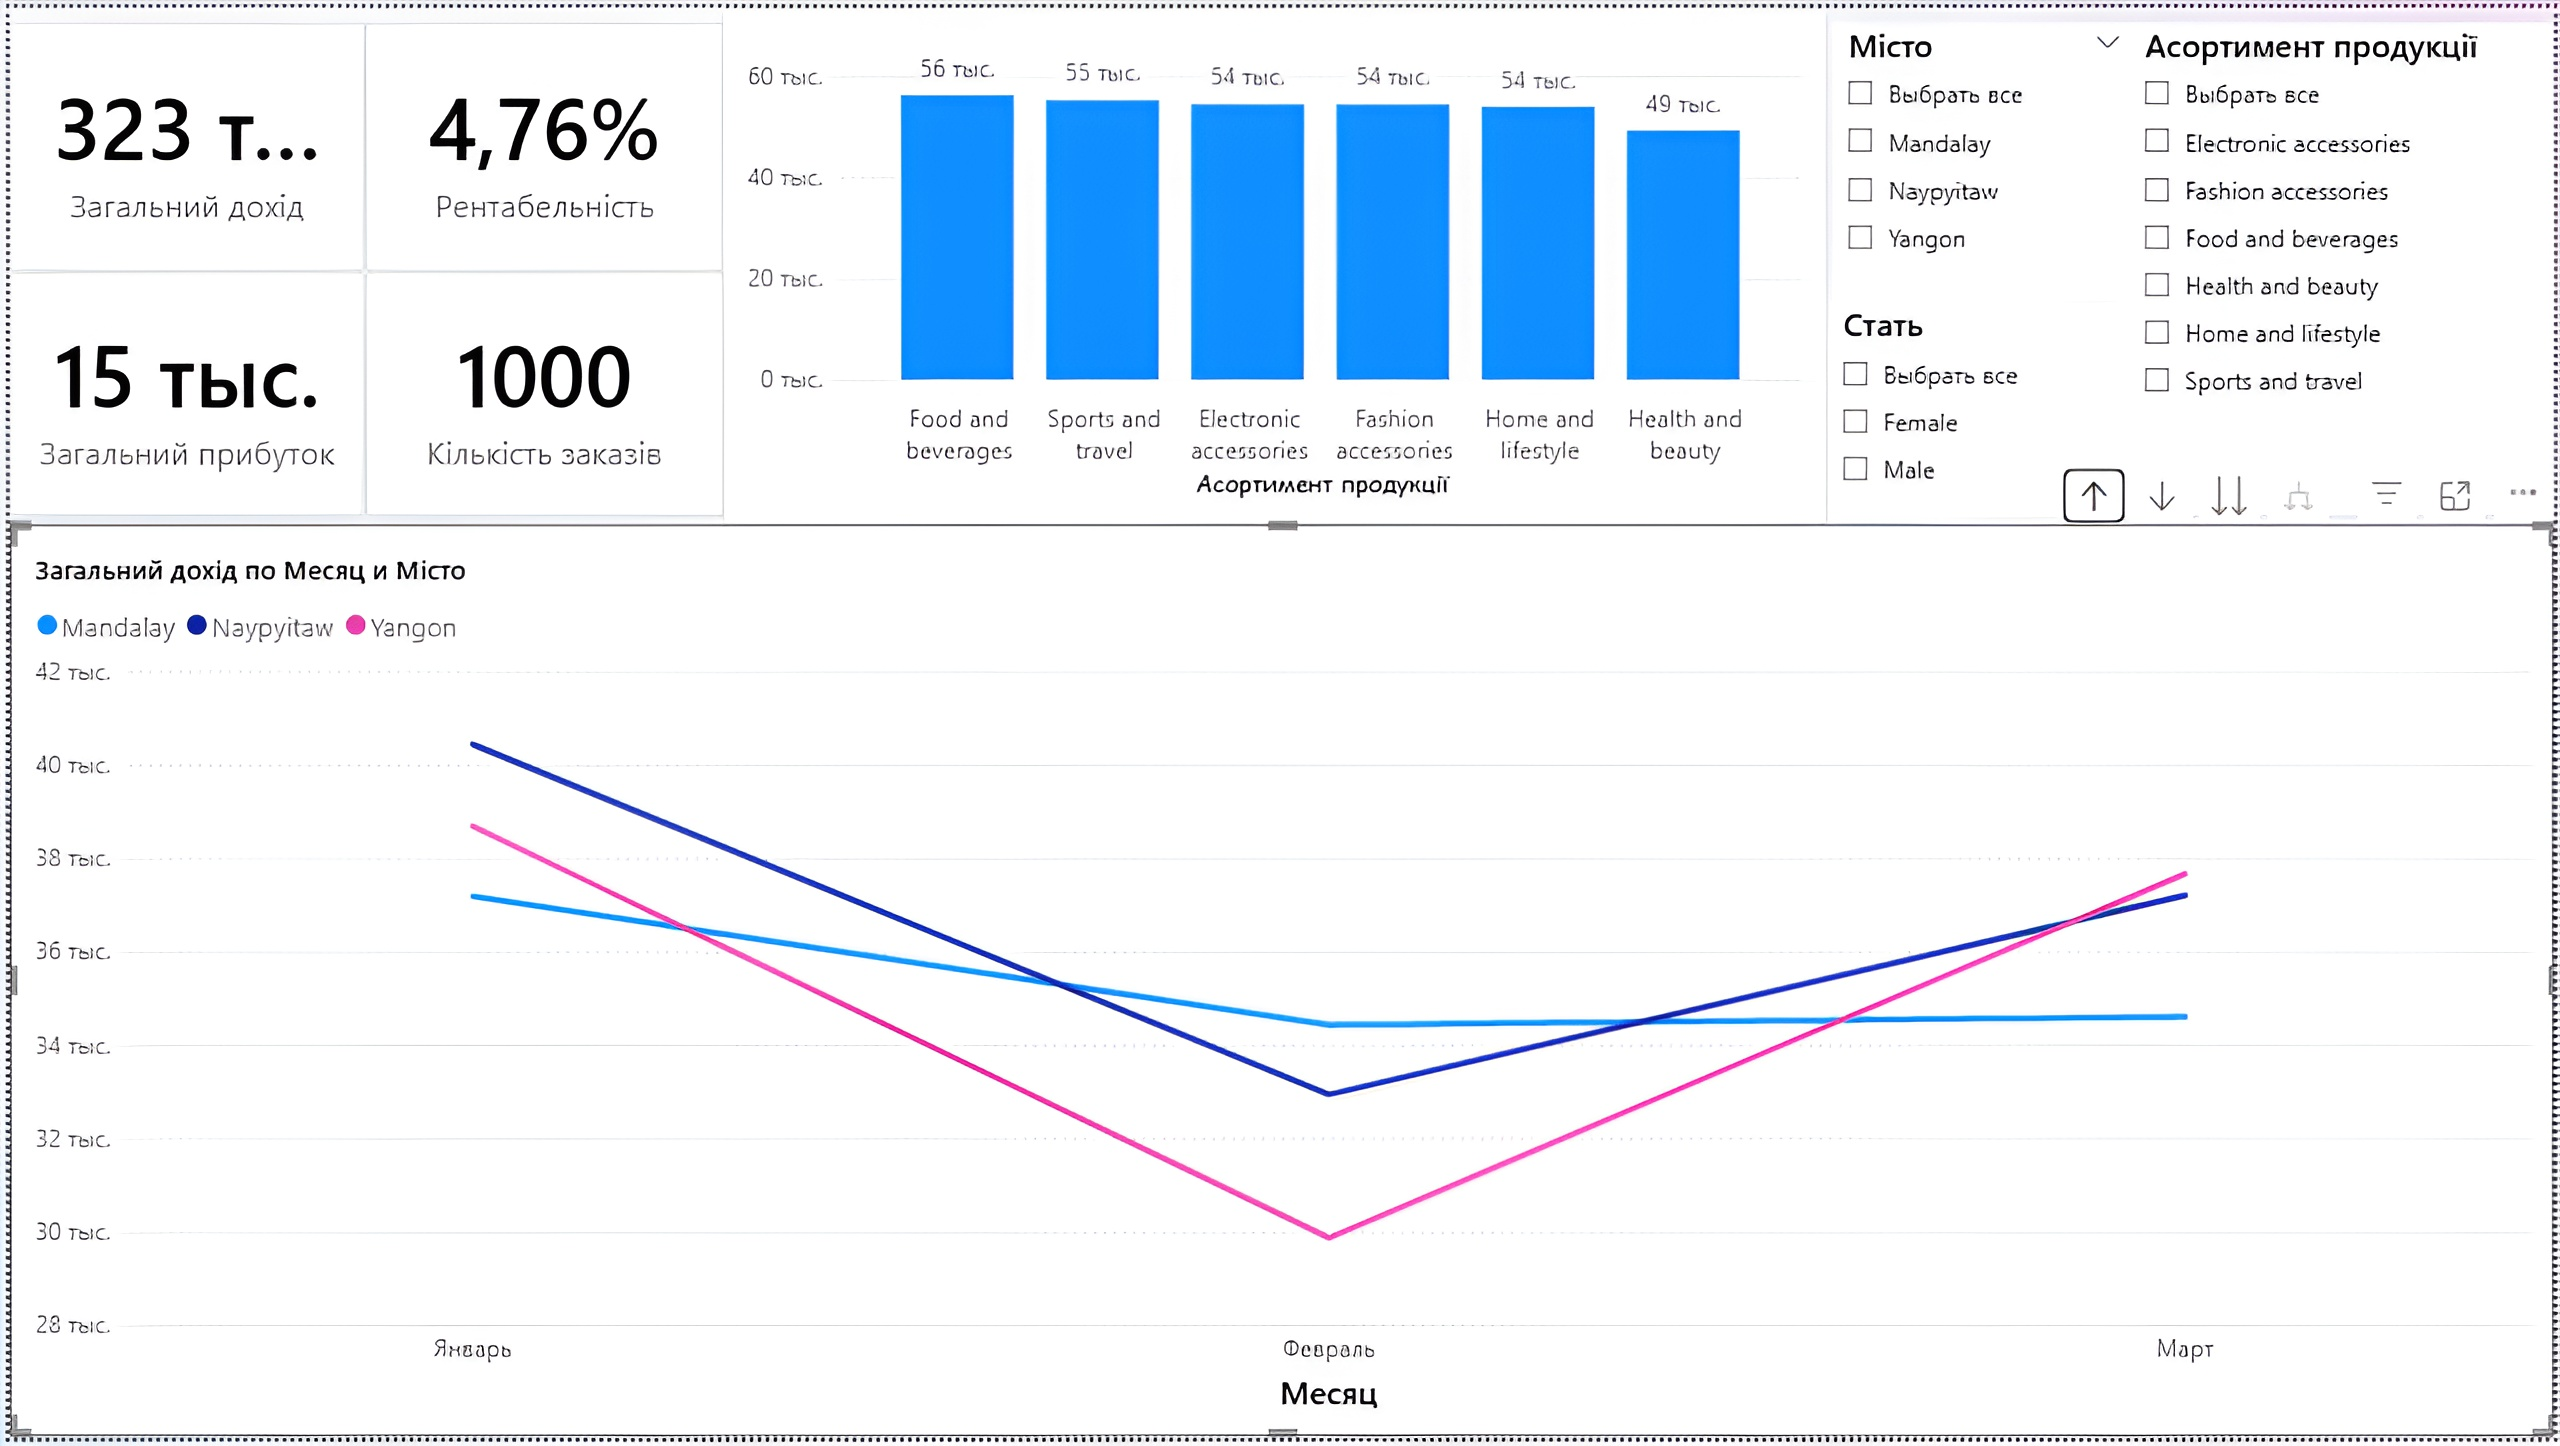

The page's visual inventory and layout, read from the dashboard file:
{"tool":"powerbi","page":{"name":"Страница 1","canvas":[1280,720],"ordinal":0},"visuals":[{"type":"card","fields":{"Values":["SuperMarket Analysis.Total Revenue"]},"box":[0,7.5,178.8,125],"z":0},{"type":"slicer","fields":{"Values":["SuperMarket Analysis.City"]},"box":[916.2,7.5,152.5,140],"z":1000},{"type":"card","fields":{"Values":["SuperMarket Analysis.Total Profit"]},"box":[0,132.5,178.8,122.5],"z":2000},{"type":"card","fields":{"Values":["SuperMarket Analysis.Profit Margin %"]},"box":[178.8,7.5,180,125],"z":4000},{"type":"slicer","fields":{"Values":["SuperMarket Analysis.Gender"]},"box":[913.8,147.5,156.2,107.5],"z":5000},{"type":"columnChart","fields":{"Category":["SuperMarket Analysis.Product line"],"Y":["SuperMarket Analysis.Total Revenue"]},"box":[358.3,0,556,260],"z":6000},{"type":"card","fields":{"Values":["SuperMarket Analysis.Order Count"]},"box":[178.8,132.5,180,122.5],"z":7000},{"type":"slicer","fields":{"Values":["SuperMarket Analysis.Product line"]},"box":[1066.2,7.5,213.8,247.5],"z":8000},{"type":"lineChart","fields":{"Category":["SuperMarket Analysis.Дата.Изменение.Иерархия дат.Год","SuperMarket Analysis.Дата.Изменение.Иерархия дат.Квартал","SuperMarket Analysis.Дата.Изменение.Иерархия дат.Месяц","SuperMarket Analysis.Дата.Изменение.Иерархия дат.День"],"Y":["SuperMarket Analysis.Загальний дохід"],"Series":["SuperMarket Analysis.Місто"]},"box":[0,259.8,1279.5,459.4],"z":9000},{"type":"actionButton","title":"Показати гістограму ","box":[1101,278.4,155.8,29.4],"z":10000},{"type":"actionButton","title":"Показати графік","box":[1112.4,278.4,132.8,29.4],"z":11000}]}

Visuals, with their boxes on the page's 1280x720 design canvas (x1, y1, x2, y2). These are canvas units, not pixel positions in the 2560x1446 screenshot, which may show the page scaled, cropped or inside an application window:
card - SuperMarket Analysis.Total Revenue: bbox=(0, 8, 179, 132)
slicer - SuperMarket Analysis.City: bbox=(916, 8, 1069, 148)
card - SuperMarket Analysis.Total Profit: bbox=(0, 132, 179, 255)
card - SuperMarket Analysis.Profit Margin %: bbox=(179, 8, 359, 132)
slicer - SuperMarket Analysis.Gender: bbox=(914, 148, 1070, 255)
columnChart - SuperMarket Analysis.Product line x SuperMarket Analysis.Total Revenue: bbox=(358, 0, 914, 260)
card - SuperMarket Analysis.Order Count: bbox=(179, 132, 359, 255)
slicer - SuperMarket Analysis.Product line: bbox=(1066, 8, 1280, 255)
lineChart - SuperMarket Analysis.Дата.Изменение.Иерархия дат.Год x SuperMarket Analysis.Дата.Изменение.Иерархия дат.Квартал: bbox=(0, 260, 1280, 719)
"Показати гістограму " actionButton: bbox=(1101, 278, 1257, 308)
"Показати графік" actionButton: bbox=(1112, 278, 1245, 308)
